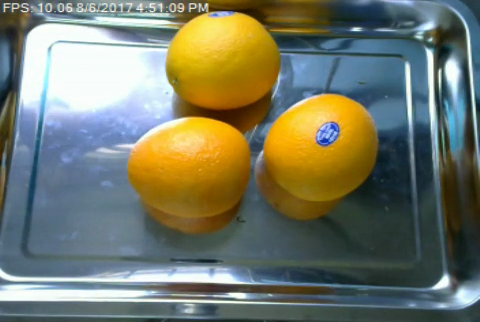Orange: (262, 94, 379, 201), (128, 115, 250, 216), (165, 11, 279, 111)
